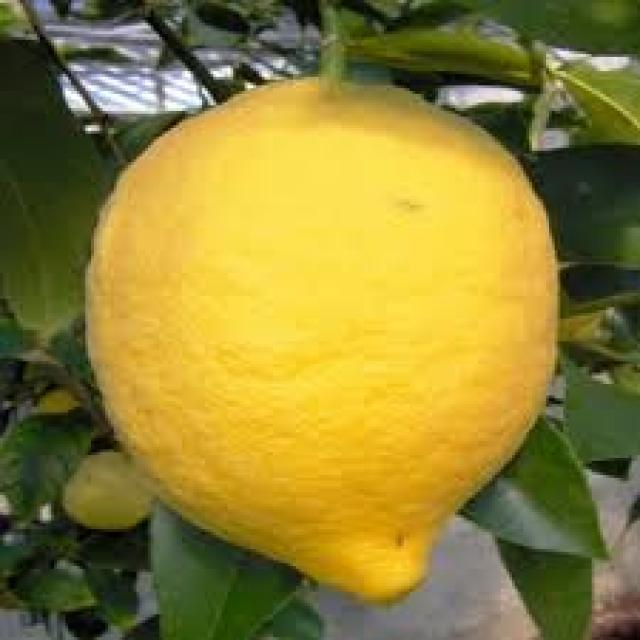Lemon: (81, 71, 564, 606)
